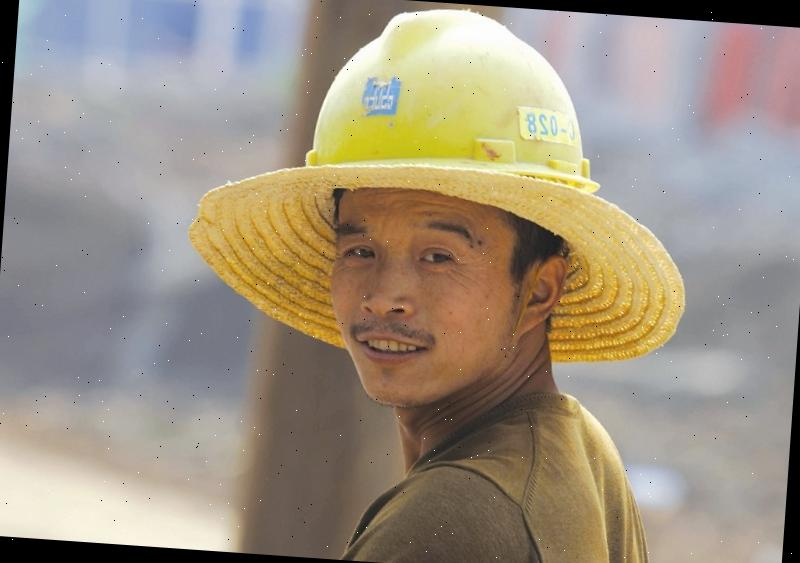helmet: (301, 0, 615, 194)
